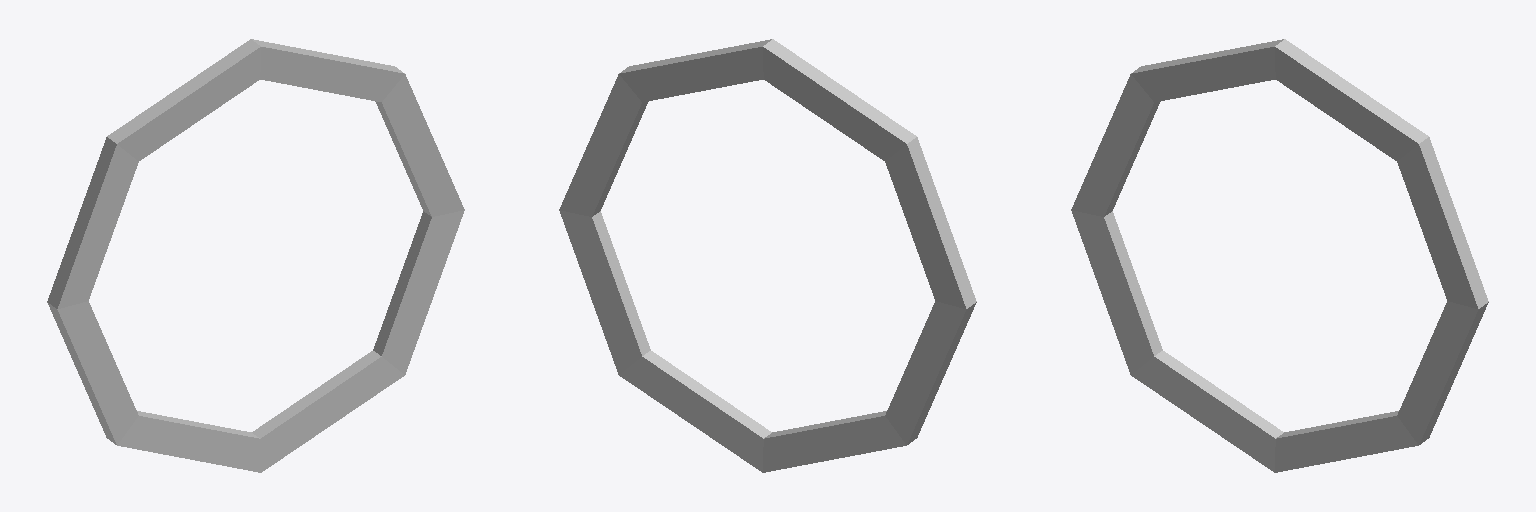
File: outher.obj
3 views of the same model, side by side, from view 1: azimuth 30°, elevation 25°; view 2: azimuth 150°, elevation 25°; view 3: azimuth 330°, elevation 25° (orthographic).
Visible parts, largest first — view 1: Outher_Cylinder.001; view 2: Outher_Cylinder.001; view 3: Outher_Cylinder.001.
Part boxes in pixels (x1,y1,x2,y2): Outher_Cylinder.001: (47, 39, 464, 472); Outher_Cylinder.001: (559, 39, 976, 472); Outher_Cylinder.001: (1071, 39, 1488, 472).
Size of the model in its own units: 3.71 by 3.71 by 0.1617.